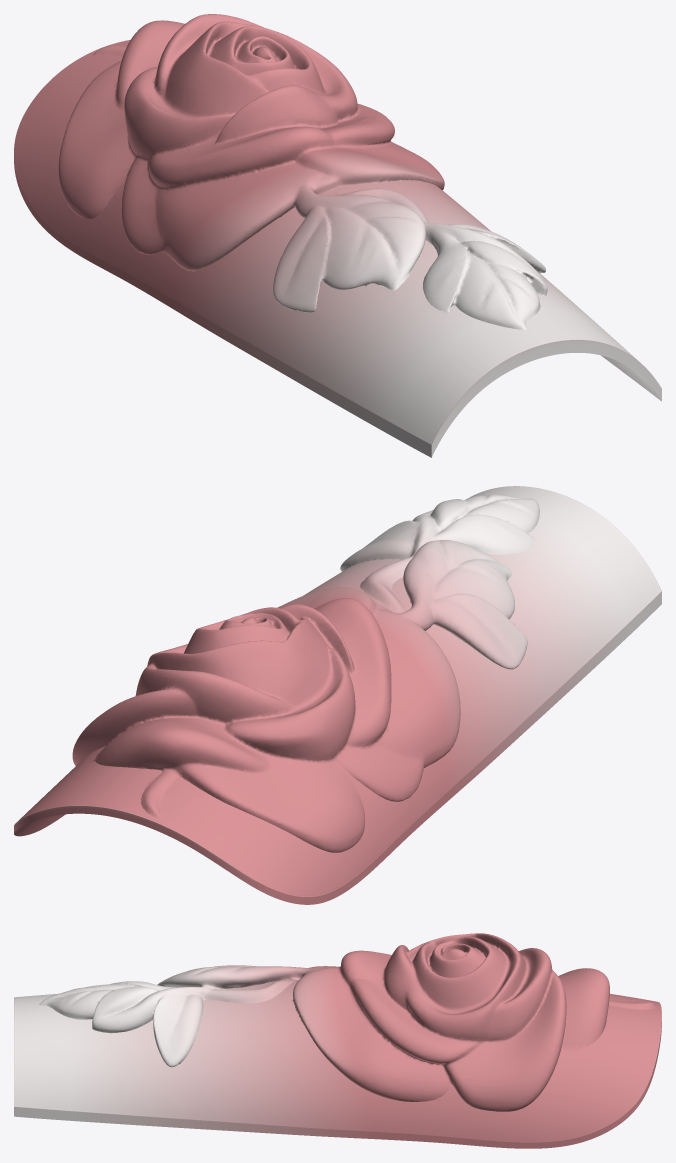
Rendered from MF_Mei_gui_wumingzhi_fx04.obj.
3 renders of one model, top to bottom at view 1: azimuth 30°, elevation 25°; view 2: azimuth 150°, elevation 25°; view 3: azimuth 270°, elevation 25°, orthographic. The views are drawn at different scales.
Parts seen in each view (by area): view 1: MF_Mei_gui_wumingzhi_fx04; view 2: MF_Mei_gui_wumingzhi_fx04; view 3: MF_Mei_gui_wumingzhi_fx04.
Boxes of the visible parts, <box> form: MF_Mei_gui_wumingzhi_fx04: <box>14,14,661,457</box>; MF_Mei_gui_wumingzhi_fx04: <box>14,486,661,904</box>; MF_Mei_gui_wumingzhi_fx04: <box>14,933,661,1148</box>.
Size of the model in its own units: 11.95 by 7.98 by 30.37.
Materials: 1 (1 with a texture image).
